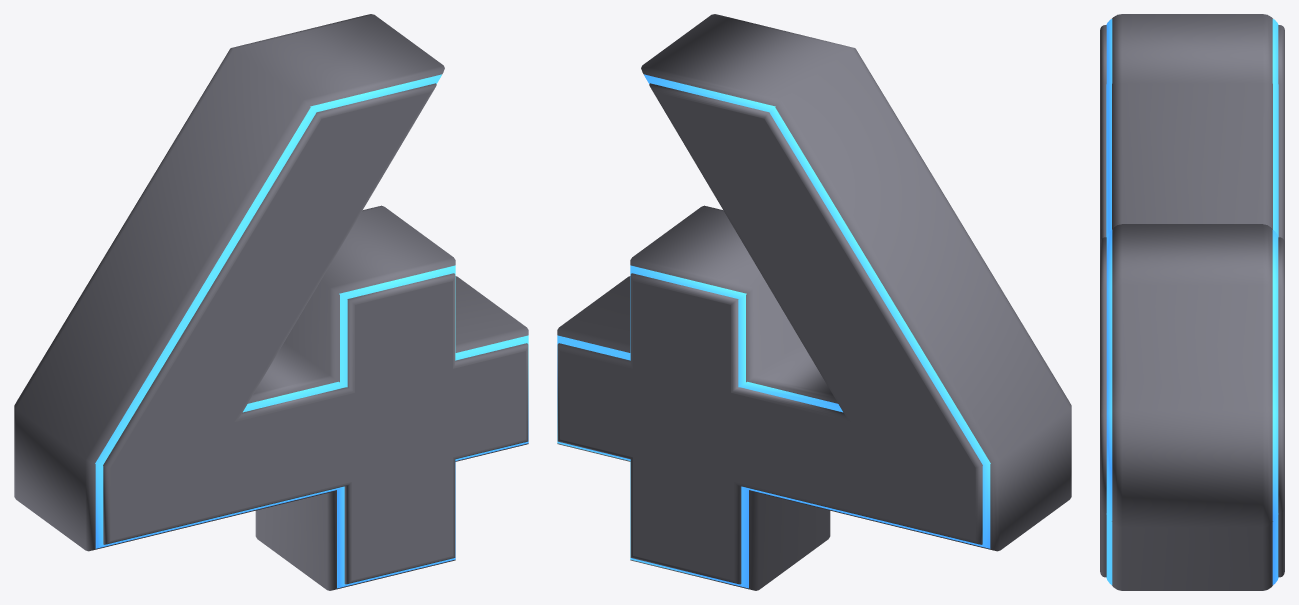
The model's file is four.glb.
The picture shows the model from 3 angles, left to right: view 1: azimuth 30°, elevation 25°; view 2: azimuth 150°, elevation 25°; view 3: azimuth 270°, elevation 25°; orthographic projection.
Parts seen in each view (by area): view 1: N_4_smaller_2, N_4_side_1, N_4_border_0; view 2: N_4_smaller_2, N_4_side_1, N_4_border_0; view 3: N_4_side_1, N_4_smaller_2, N_4_border_0.
Boxes of the visible parts, x1,y1,x2,y2 form: N_4_smaller_2: (17,49,528,584); N_4_side_1: (14,14,528,590); N_4_border_0: (95,74,528,588); N_4_smaller_2: (557,49,1068,584); N_4_side_1: (557,14,1071,590); N_4_border_0: (557,74,990,588); N_4_side_1: (1112,14,1272,590); N_4_smaller_2: (1100,25,1284,577); N_4_border_0: (1106,19,1278,584).
Bounding box in the file's own units: 0.5136 × 0.5516 × 0.184.
